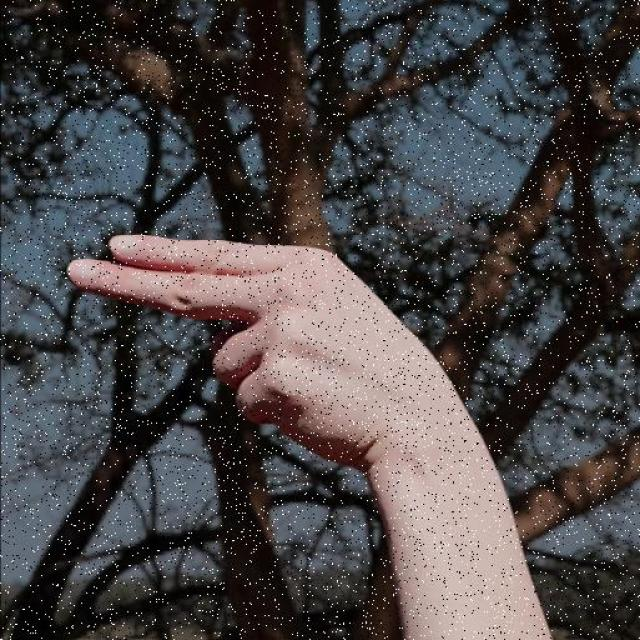H: (58, 230, 501, 466)
